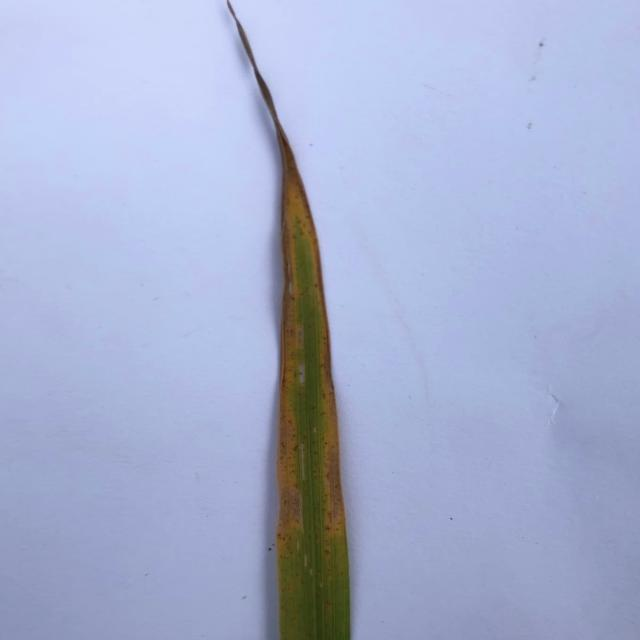tungro: (313, 135, 349, 550), (276, 130, 302, 568)
